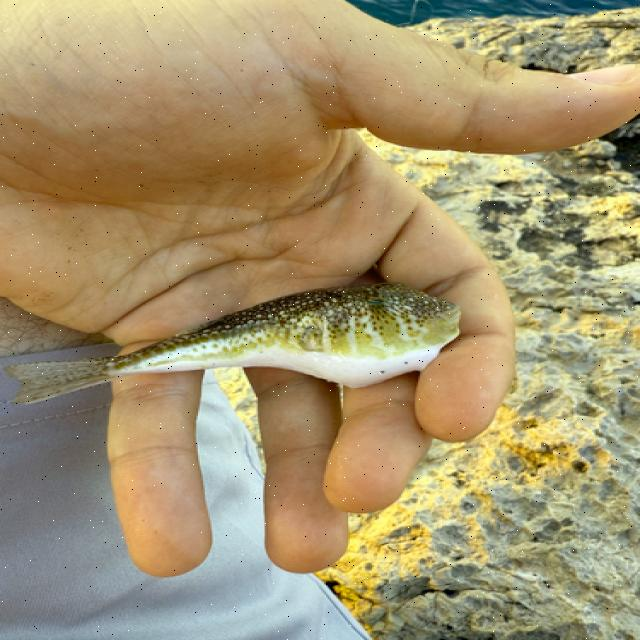Balik: (6, 283, 460, 403)
